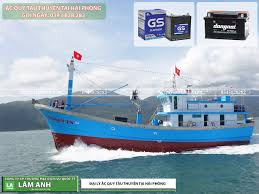tau_dansu: (36, 69, 251, 155)
